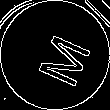M_NW: (22, 23, 88, 87)
